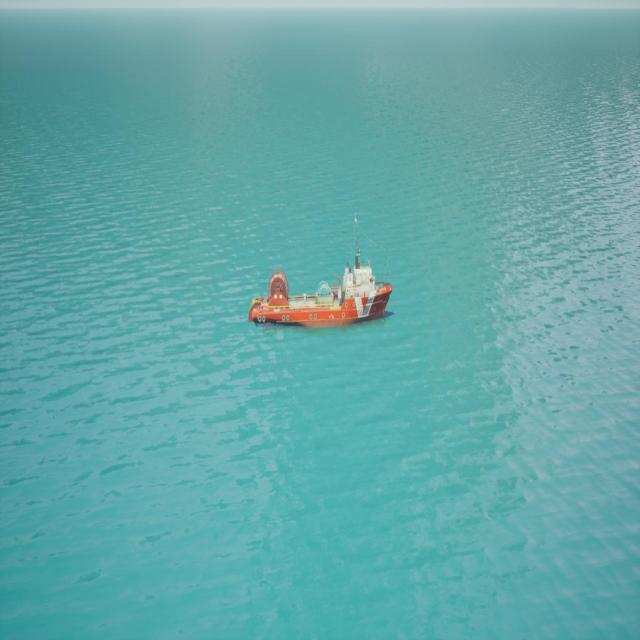tug boat: (249, 258, 394, 334)
